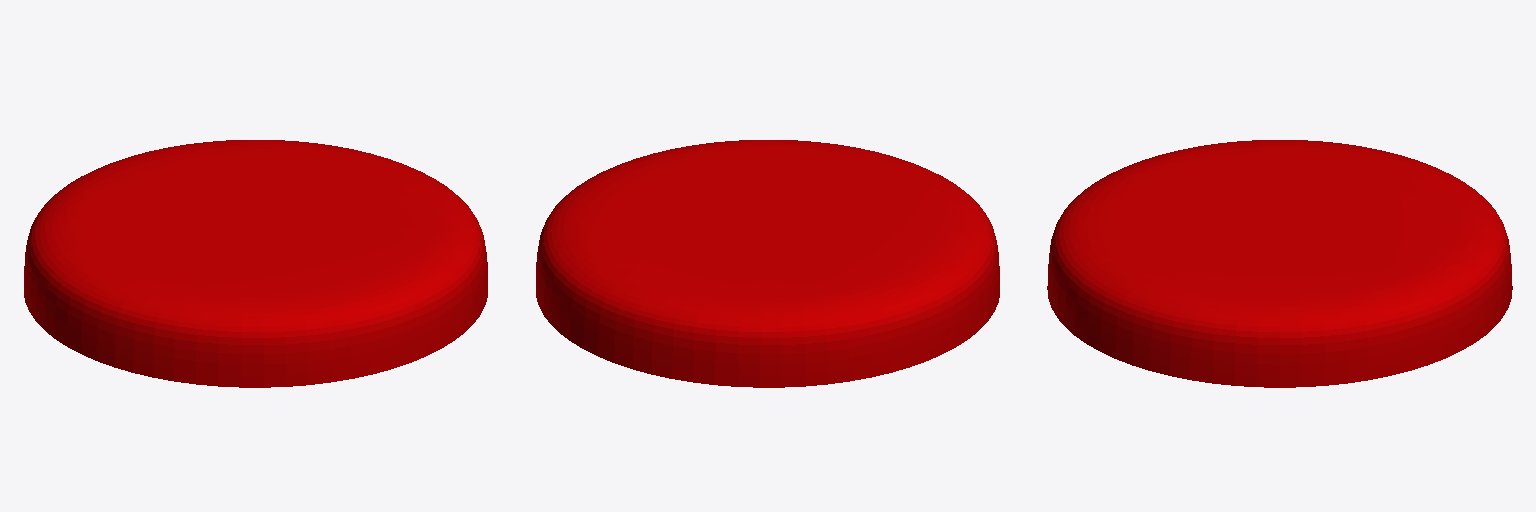
3 renders of one model, left to right at view 1: azimuth 30°, elevation 25°; view 2: azimuth 150°, elevation 25°; view 3: azimuth 270°, elevation 25°, orthographic.
Visible parts, largest first — view 1: button4; view 2: button4; view 3: button4.
Boxes of the visible parts, box(x1,y1,x2,y2) form: button4: box(24, 140, 487, 387); button4: box(536, 140, 999, 387); button4: box(1047, 140, 1512, 387).
Bounding box in the file's own units: 0.0316 × 0.005 × 0.0316.